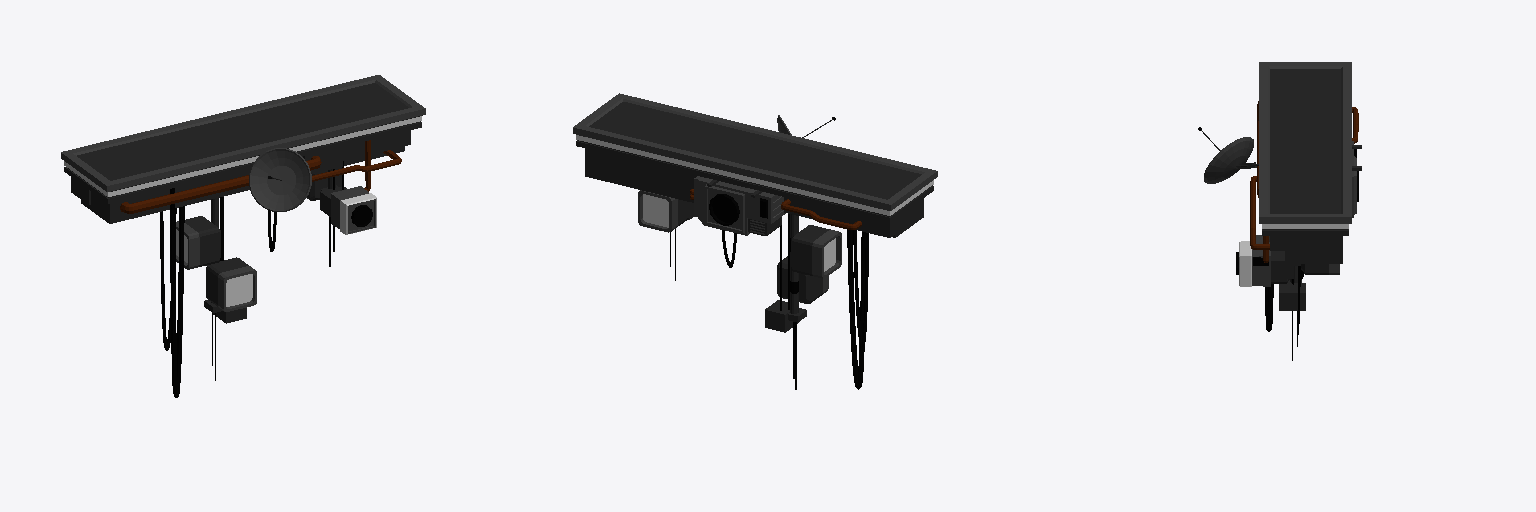
File: Platform_4x1_Cube_001.obj
3 renders of one model, left to right at view 1: azimuth 30°, elevation 25°; view 2: azimuth 150°, elevation 25°; view 3: azimuth 270°, elevation 25°, orthographic.
Parts seen in each view (by area): view 1: Platform_4x1_Cube.001; view 2: Platform_4x1_Cube.001; view 3: Platform_4x1_Cube.001.
Boxes of the visible parts, <box> form: Platform_4x1_Cube.001: <box>61,75,425,397</box>; Platform_4x1_Cube.001: <box>573,93,937,389</box>; Platform_4x1_Cube.001: <box>1198,62,1361,360</box>.
Size of the model in its own units: 3.86 by 2.81 by 1.73.